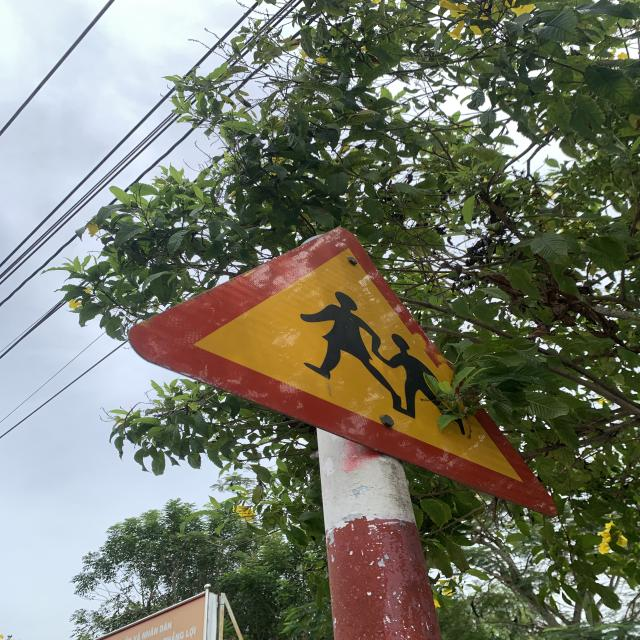Vong_Xuyen: (126, 221, 567, 516)
